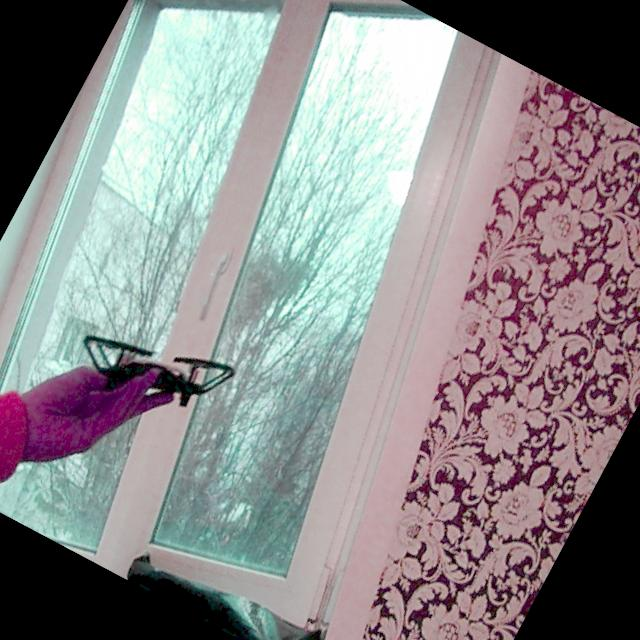drone: (66, 288, 248, 442)
